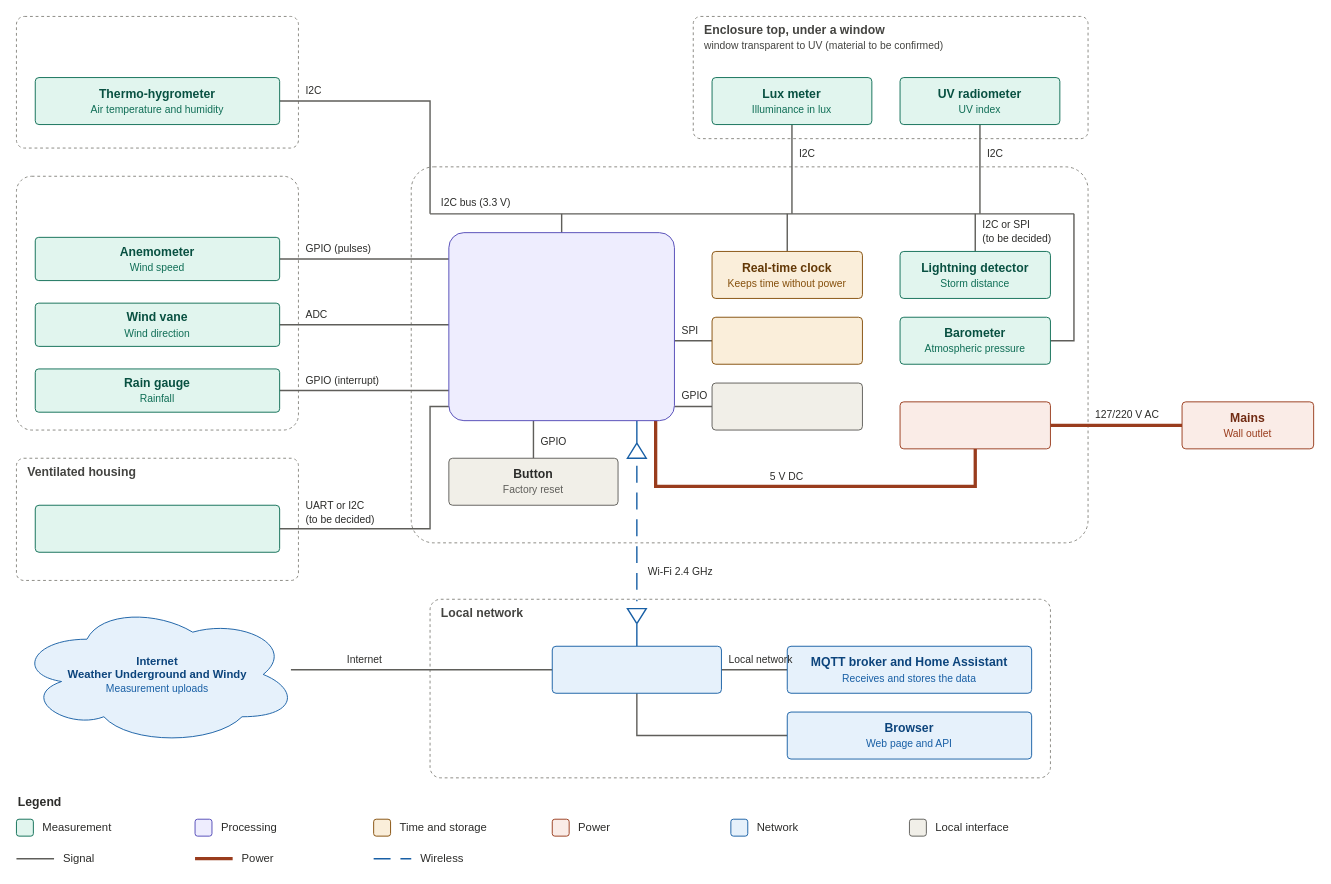
Image size: 1331x884. Some labels were removed from this diagram. The box of each missing label's shape, as (x1, y1, x2, y2) in pixels:
Electronics enclosure (IP65): (410, 166, 1088, 543)
Mast: wind and rain sensors: (16, 175, 298, 430)
Microcontroller ESP32-S3 · Wi-Fi: (448, 232, 674, 421)
Particulate matter sensor PM1.0, PM2.5 and PM10: (34, 504, 280, 552)
Power supply AC-DC converter: (899, 401, 1050, 449)
Radiation shield distance to the enclosure: to be decided: (16, 16, 298, 148)
RGB LED Status indication: (711, 382, 862, 430)
Router Wi-Fi access point: (551, 645, 721, 693)
SD card Records and resending: (711, 316, 862, 364)
